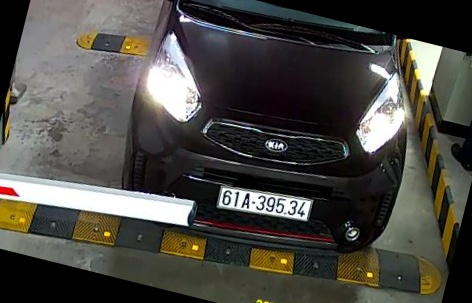plate: (217, 182, 316, 230)
